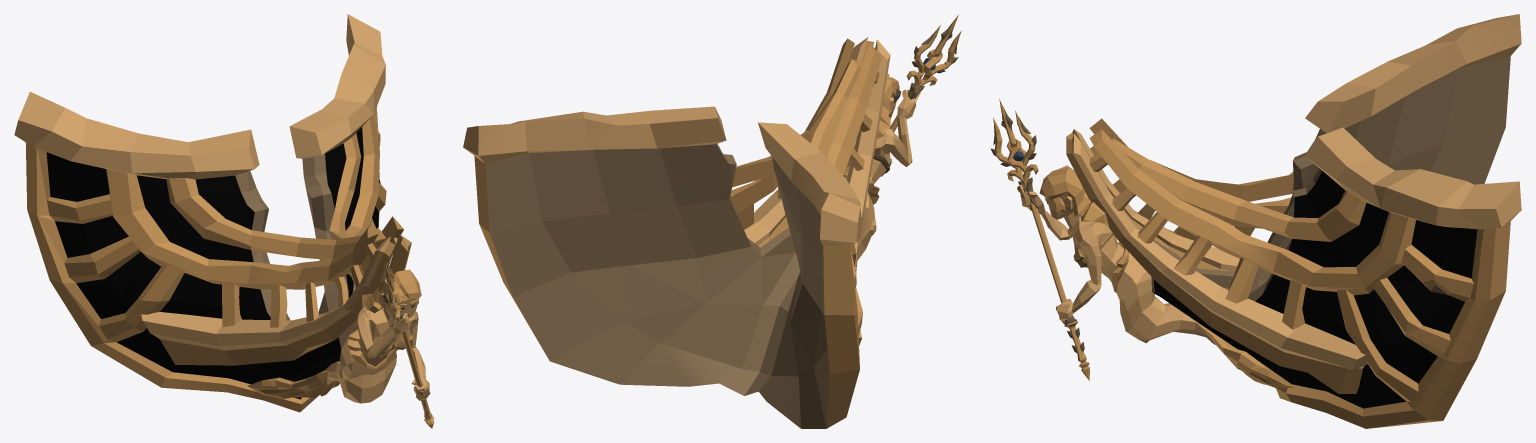
File: SM_Veh_Ship_L_Figurehead_02.fbx
3 renders of one model, left to right at view 1: azimuth 30°, elevation 25°; view 2: azimuth 150°, elevation 25°; view 3: azimuth 270°, elevation 25°, orthographic. The views are drawn at different scales.
Parts seen in each view (by area): view 1: SM_Veh_Ship_L_Figurehead_02; view 2: SM_Veh_Ship_L_Figurehead_02; view 3: SM_Veh_Ship_L_Figurehead_02.
Part boxes in pixels (x1,y1,x2,y2): SM_Veh_Ship_L_Figurehead_02: (14,14,434,428); SM_Veh_Ship_L_Figurehead_02: (463,14,961,428); SM_Veh_Ship_L_Figurehead_02: (991,14,1521,428).
Bounding box in the file's own units: 744 × 543 × 869.
